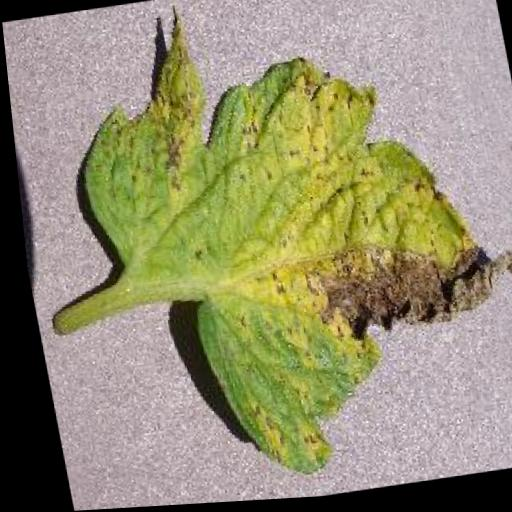Septoria: (48, 0, 512, 498)
